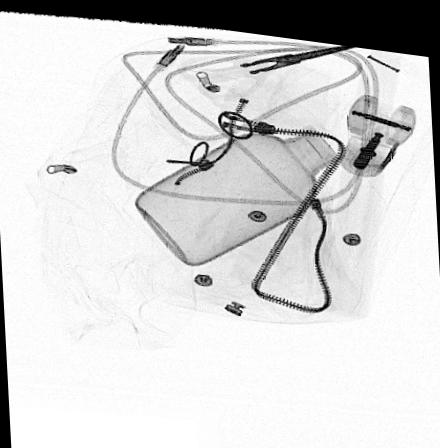Scissors: (176, 36, 362, 97)
